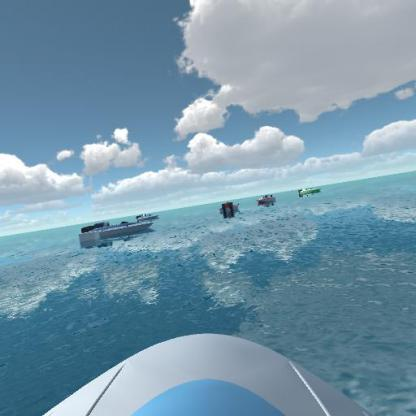usv0: (295, 182, 324, 199), (218, 198, 241, 219), (257, 191, 278, 210)
usv1: (75, 216, 154, 250), (134, 211, 160, 223)
